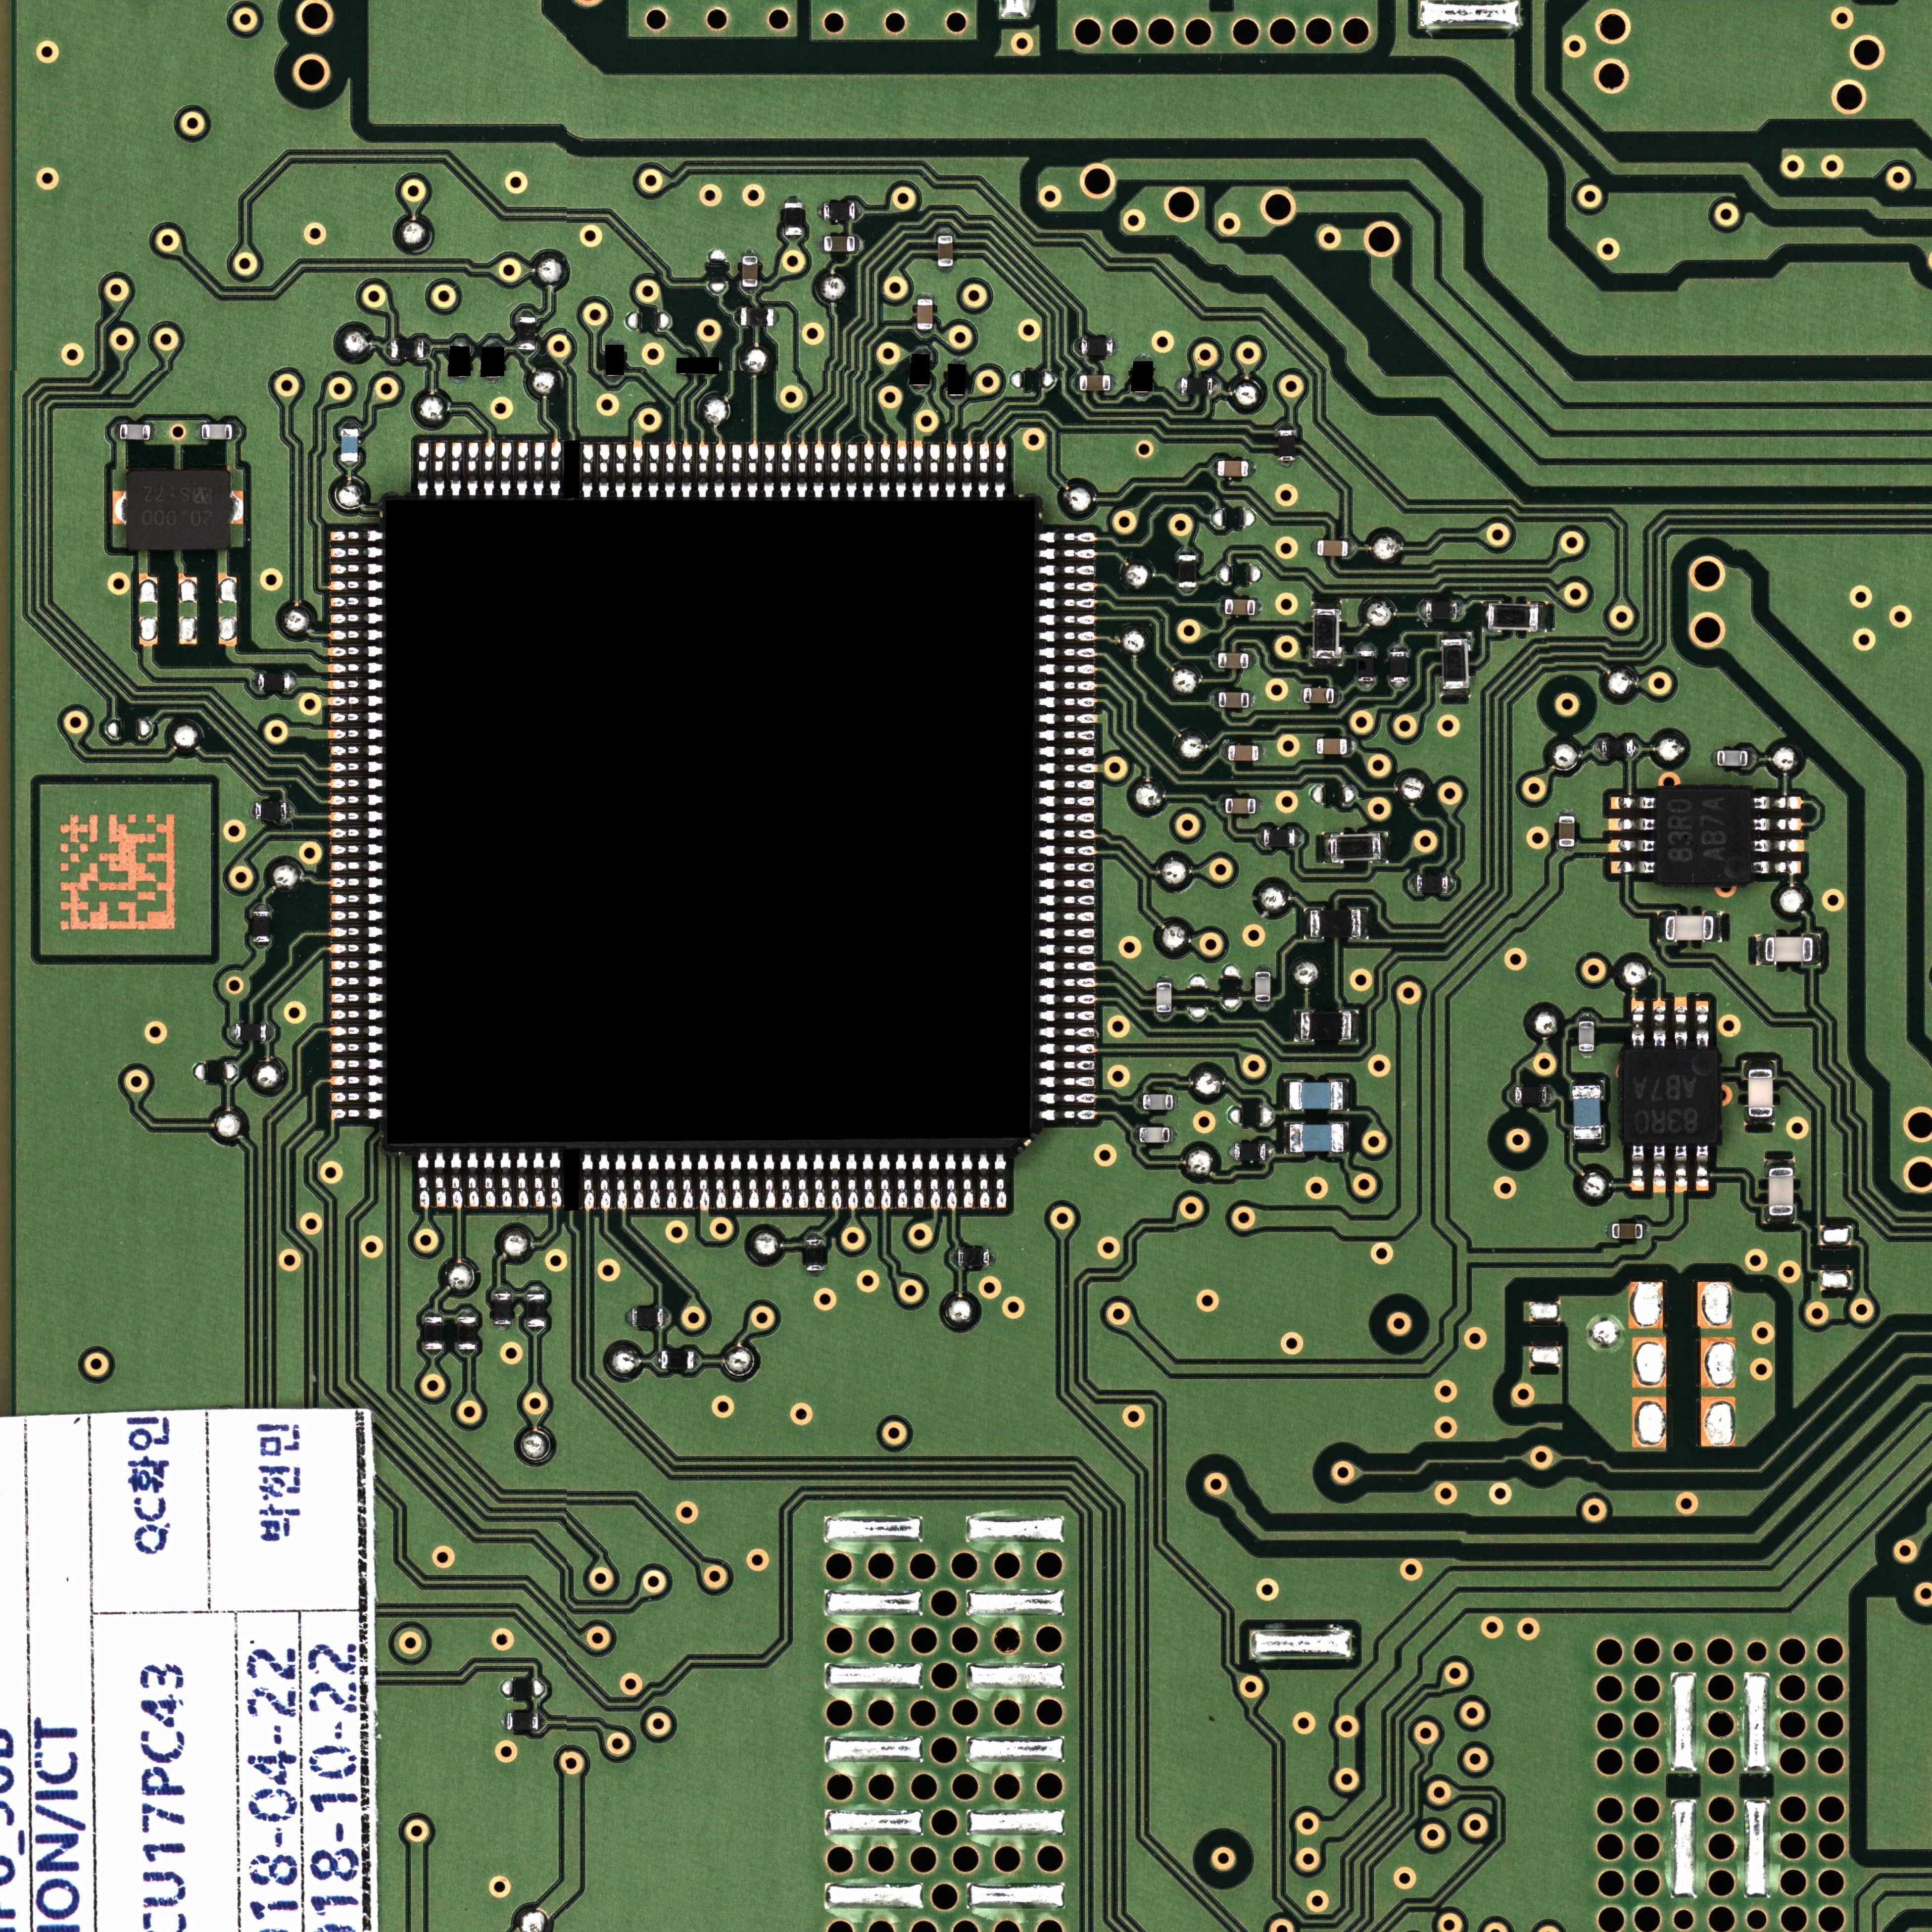Package: (1658, 789, 1752, 883), (1624, 1051, 1718, 1143), (126, 469, 230, 550), (1290, 1123, 1345, 1152), (1573, 1086, 1601, 1139), (1290, 1081, 1343, 1109), (1300, 1012, 1352, 1040), (1311, 909, 1361, 938), (1330, 833, 1380, 862), (1488, 603, 1537, 630), (1313, 609, 1339, 658), (1442, 639, 1468, 688), (1667, 915, 1714, 941), (1769, 1168, 1794, 1215), (1748, 1069, 1773, 1116), (1766, 938, 1813, 962), (784, 202, 803, 235), (391, 340, 425, 359), (340, 428, 359, 462), (423, 1316, 442, 1350), (660, 1350, 694, 1369), (741, 308, 773, 327), (251, 911, 271, 943), (1263, 828, 1295, 847), (1389, 651, 1408, 683), (518, 317, 536, 350), (527, 1293, 545, 1327), (458, 1316, 476, 1350), (805, 1240, 824, 1270), (255, 801, 287, 819), (258, 674, 290, 692), (494, 1293, 511, 1325), (506, 1713, 538, 1730), (957, 1249, 989, 1267), (1601, 740, 1633, 757), (1081, 338, 1113, 356), (1415, 876, 1447, 893), (1178, 556, 1196, 587), (1426, 602, 1458, 619), (1514, 1086, 1546, 1104), (824, 202, 855, 219), (235, 1023, 265, 1040), (1224, 598, 1254, 616), (1277, 430, 1295, 460), (1182, 377, 1212, 395), (1357, 651, 1375, 681), (1235, 1143, 1265, 1161), (632, 1309, 663, 1325), (1079, 375, 1111, 391), (1316, 738, 1348, 754), (1224, 798, 1256, 814), (1217, 653, 1249, 669), (938, 235, 954, 267), (1228, 745, 1260, 761), (1559, 816, 1575, 847), (741, 257, 757, 287), (916, 299, 932, 329), (120, 425, 150, 441), (824, 235, 855, 251), (1318, 540, 1348, 556), (1304, 688, 1334, 704), (1219, 692, 1249, 708), (1718, 750, 1748, 766), (1217, 460, 1247, 476), (1254, 971, 1270, 1001), (1612, 1223, 1642, 1238), (1143, 1093, 1173, 1109), (1139, 1127, 1169, 1143), (1578, 1021, 1594, 1051), (202, 425, 232, 439), (1157, 982, 1171, 1012)
Solder: (418, 1148, 430, 1208), (632, 1150, 644, 1210), (846, 1150, 858, 1210), (945, 1150, 957, 1210), (582, 1150, 594, 1210), (1037, 679, 1097, 692), (1037, 531, 1097, 543), (1037, 580, 1097, 593), (1037, 630, 1097, 642), (467, 1150, 479, 1208), (697, 441, 709, 499), (796, 441, 809, 499), (895, 441, 908, 499), (517, 1148, 529, 1207), (994, 441, 1007, 499), (1037, 729, 1095, 741), (1037, 778, 1095, 791), (1037, 878, 1095, 890), (1037, 927, 1095, 939), (1037, 943, 1095, 955), (994, 1150, 1007, 1208), (483, 441, 495, 497), (648, 442, 660, 499), (747, 442, 759, 499), (846, 442, 858, 499), (945, 442, 957, 499), (433, 442, 446, 497), (467, 442, 479, 497), (329, 925, 384, 938), (331, 1108, 386, 1120), (517, 442, 529, 497), (598, 444, 610, 499), (331, 959, 384, 971), (600, 1150, 610, 1212), (550, 1148, 561, 1210), (1752, 796, 1798, 810), (1752, 817, 1798, 832), (1752, 839, 1798, 853), (435, 1148, 446, 1208), (681, 1150, 692, 1210), (616, 1150, 626, 1210), (830, 1150, 840, 1210), (534, 1148, 545, 1208), (929, 1150, 939, 1210), (1037, 763, 1097, 773), (1037, 713, 1097, 724), (1037, 697, 1097, 708), (1037, 663, 1097, 674), (1037, 828, 1097, 839), (1037, 846, 1097, 856), (1037, 648, 1097, 658), (1037, 548, 1097, 559), (1037, 961, 1097, 971), (1037, 1093, 1097, 1104), (1037, 1109, 1097, 1120), (1037, 1044, 1097, 1054), (1037, 977, 1097, 987), (1037, 994, 1097, 1005), (451, 1150, 462, 1208), (665, 441, 676, 499), (681, 441, 692, 499), (780, 441, 791, 499), (814, 441, 824, 499), (830, 441, 840, 499), (879, 441, 890, 499), (913, 441, 924, 499), (731, 1150, 741, 1208), (699, 1152, 709, 1210), (748, 1150, 759, 1208), (764, 1150, 775, 1208), (798, 1150, 809, 1208), (780, 1150, 791, 1208), (665, 1150, 676, 1208), (649, 1150, 660, 1208), (814, 1150, 824, 1208), (879, 1152, 890, 1210), (897, 1150, 908, 1208), (913, 1150, 924, 1208), (863, 1152, 874, 1210), (501, 1148, 511, 1207), (485, 1148, 495, 1207), (978, 441, 989, 499), (1037, 747, 1095, 757), (1037, 796, 1095, 807), (1037, 812, 1095, 823), (1037, 862, 1095, 872), (1037, 911, 1095, 922), (1037, 598, 1095, 609), (1039, 614, 1097, 625), (1037, 564, 1095, 575), (1037, 895, 1095, 906), (1037, 1076, 1095, 1086), (1037, 1060, 1095, 1070), (327, 679, 384, 690), (327, 646, 384, 656), (327, 662, 384, 672), (329, 1076, 386, 1086), (715, 442, 725, 499), (632, 442, 642, 499), (764, 442, 775, 499), (962, 442, 973, 499), (863, 442, 874, 499), (550, 441, 561, 497), (715, 1152, 725, 1208), (962, 1152, 973, 1208), (978, 1152, 989, 1208), (1039, 1010, 1095, 1021), (1039, 1026, 1095, 1037), (1752, 862, 1799, 874), (418, 442, 428, 497), (451, 442, 462, 497), (329, 761, 384, 771), (329, 745, 384, 755), (329, 794, 384, 805), (329, 778, 384, 789), (329, 729, 384, 740), (329, 711, 384, 722), (329, 810, 384, 821), (329, 828, 384, 839), (329, 878, 384, 888), (329, 844, 384, 855), (329, 695, 384, 706), (329, 630, 384, 640), (329, 580, 384, 591), (329, 943, 384, 954), (331, 1092, 386, 1102), (329, 1026, 384, 1037), (331, 1058, 386, 1069), (731, 444, 741, 499), (616, 444, 626, 499), (501, 442, 511, 497), (582, 444, 593, 499), (929, 444, 939, 499), (534, 442, 545, 497), (1631, 1007, 1645, 1047), (1652, 1007, 1667, 1047), (1652, 1145, 1667, 1185), (1674, 1146, 1688, 1187), (331, 860, 384, 870), (331, 893, 384, 904), (331, 909, 384, 920), (331, 612, 384, 623), (331, 596, 384, 607), (331, 563, 384, 573), (331, 547, 384, 557), (331, 531, 384, 541), (331, 1008, 384, 1019), (331, 993, 384, 1003), (331, 1042, 384, 1053), (331, 977, 384, 987), (1631, 1145, 1644, 1187), (1675, 1007, 1688, 1049), (1697, 1007, 1709, 1049), (1697, 1146, 1709, 1187), (1615, 840, 1656, 853), (1615, 862, 1656, 874), (1617, 796, 1656, 809), (1617, 817, 1656, 830), (230, 492, 244, 524), (113, 492, 126, 524), (1380, 832, 1389, 863), (1361, 908, 1369, 939), (1658, 913, 1667, 943), (1744, 1060, 1775, 1069), (1766, 1159, 1794, 1168), (1766, 1215, 1794, 1224), (1304, 908, 1311, 939), (1352, 1010, 1359, 1042), (1283, 1122, 1290, 1154), (1283, 1079, 1290, 1111), (1293, 1010, 1300, 1042), (1343, 1079, 1350, 1111), (1813, 934, 1821, 966), (1757, 934, 1764, 966), (1571, 1079, 1603, 1086), (1311, 602, 1341, 609), (1311, 658, 1341, 665), (1323, 833, 1330, 863), (1343, 1123, 1350, 1154), (1714, 913, 1721, 943), (1539, 602, 1546, 632), (1440, 632, 1470, 639), (1440, 690, 1470, 697), (1744, 1118, 1775, 1125), (1573, 1139, 1603, 1146), (265, 1023, 276, 1042), (1481, 602, 1488, 630), (226, 1023, 235, 1042), (784, 195, 803, 203), (805, 1231, 824, 1240), (1178, 547, 1198, 556), (1456, 602, 1465, 621), (232, 423, 241, 441), (741, 248, 759, 257), (732, 308, 741, 326), (538, 1713, 547, 1730), (1357, 681, 1375, 690), (1408, 876, 1417, 893), (1346, 738, 1355, 755), (1295, 830, 1304, 847), (1447, 876, 1456, 893), (1173, 1093, 1182, 1111), (1155, 1012, 1173, 1021), (1134, 1093, 1143, 1111), (1254, 1001, 1272, 1010), (1748, 750, 1757, 768), (1578, 1012, 1596, 1021), (1642, 1223, 1651, 1240), (499, 1713, 508, 1730), (111, 425, 120, 441), (1210, 653, 1219, 669), (1249, 692, 1258, 708), (1210, 692, 1219, 708), (1217, 798, 1226, 814), (1258, 745, 1267, 761), (1254, 600, 1263, 616), (1169, 1127, 1178, 1143), (1709, 750, 1718, 766), (384, 340, 391, 359), (251, 943, 271, 950), (456, 1309, 476, 1316), (773, 308, 780, 327), (784, 235, 803, 242), (625, 1307, 632, 1327), (805, 1270, 824, 1277), (1277, 423, 1297, 430), (1389, 644, 1408, 651), (1155, 975, 1175, 982), (150, 423, 157, 441), (341, 421, 359, 428), (423, 340, 430, 357), (251, 674, 258, 692), (253, 904, 271, 911), (290, 674, 297, 692), (425, 1309, 442, 1316), (936, 228, 954, 235), (518, 310, 536, 317), (855, 202, 862, 219), (816, 203, 823, 221), (916, 292, 934, 299), (741, 287, 759, 294), (855, 235, 862, 253), (663, 1309, 671, 1327), (494, 1325, 511, 1332), (494, 1286, 511, 1293), (950, 1249, 957, 1267), (527, 1286, 545, 1293), (694, 1352, 701, 1369), (1074, 338, 1081, 356), (1277, 462, 1295, 469), (1173, 377, 1180, 395), (1113, 338, 1120, 356), (1249, 460, 1256, 478), (1214, 377, 1221, 395), (1217, 598, 1224, 616), (1348, 540, 1355, 557), (1391, 683, 1408, 690), (1357, 644, 1375, 651), (1178, 587, 1196, 594), (1334, 686, 1341, 704), (1256, 830, 1263, 847), (989, 1249, 996, 1267), (1267, 1143, 1274, 1161), (1633, 740, 1640, 757), (1594, 740, 1601, 757), (1546, 1086, 1553, 1104), (1507, 1086, 1514, 1104), (1605, 1223, 1612, 1240), (1134, 354, 1152, 361), (195, 425, 202, 441), (341, 462, 357, 469), (287, 803, 294, 819), (248, 803, 255, 819), (817, 235, 824, 251), (938, 267, 954, 274), (916, 329, 932, 336), (1111, 375, 1118, 391), (1210, 460, 1217, 476), (1072, 375, 1079, 391), (1249, 653, 1256, 669), (1221, 745, 1228, 761), (1256, 798, 1263, 814), (1309, 540, 1316, 556), (1309, 738, 1316, 754), (1254, 964, 1270, 971), (1419, 602, 1426, 617), (1132, 1127, 1139, 1143), (1228, 1143, 1235, 1159), (1559, 809, 1575, 816), (1559, 847, 1575, 855), (1578, 1051, 1594, 1058), (456, 1350, 476, 1355), (449, 377, 469, 382), (913, 349, 932, 354), (909, 386, 929, 391), (948, 359, 968, 364), (947, 396, 966, 402), (1297, 688, 1304, 702), (425, 1350, 442, 1355), (518, 350, 536, 356), (655, 1352, 660, 1369), (527, 1327, 545, 1332), (485, 341, 502, 347), (451, 340, 469, 345), (1134, 393, 1150, 398), (607, 340, 621, 345), (607, 375, 621, 380), (483, 379, 502, 382)
